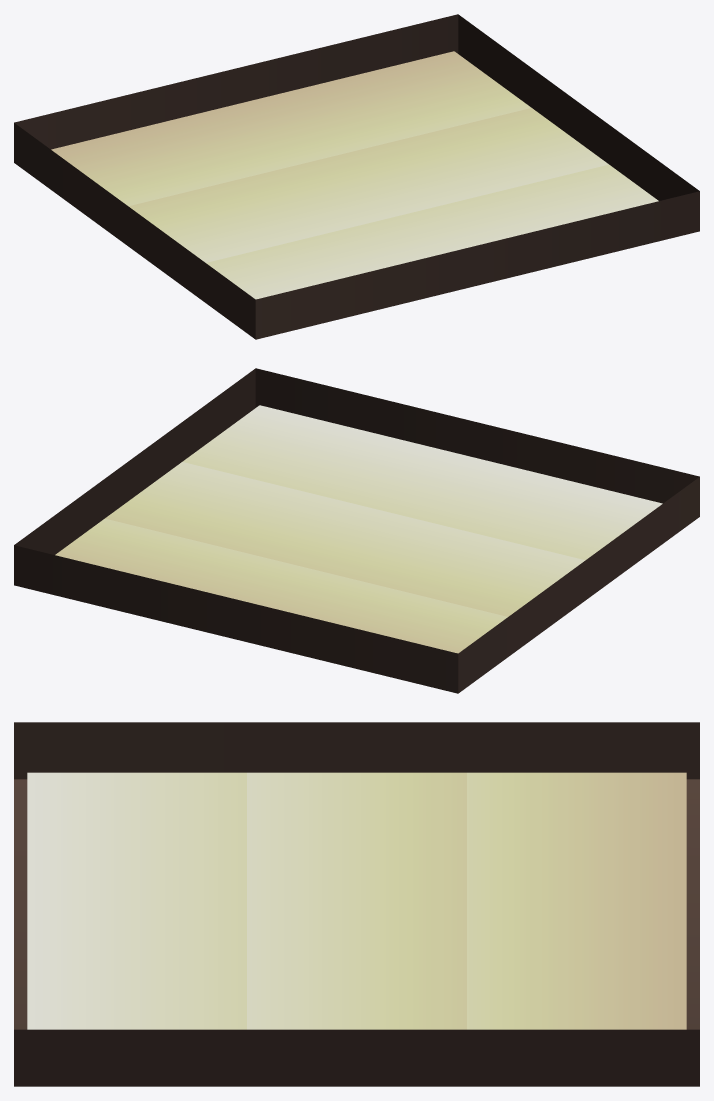
The model's file is SK_onsen_Lamp.FBX.
3 views of the same model, one above another, from view 1: azimuth 30°, elevation 25°; view 2: azimuth 150°, elevation 25°; view 3: azimuth 270°, elevation 25° (orthographic). The views are drawn at different scales.
Parts seen in each view (by area): view 1: SK_onsen_Lamp_light, SK_onsen_Lamp; view 2: SK_onsen_Lamp_light, SK_onsen_Lamp; view 3: SK_onsen_Lamp_light, SK_onsen_Lamp.
Boxes of the visible parts, box(x1,y1,x2,y2) form: SK_onsen_Lamp_light: box(51, 51, 658, 299); SK_onsen_Lamp: box(14, 14, 699, 339); SK_onsen_Lamp_light: box(55, 405, 662, 653); SK_onsen_Lamp: box(14, 368, 699, 693); SK_onsen_Lamp_light: box(27, 772, 686, 1029); SK_onsen_Lamp: box(14, 722, 699, 1086).
Bounding box in the file's own units: 188 × 16.22 × 177.
